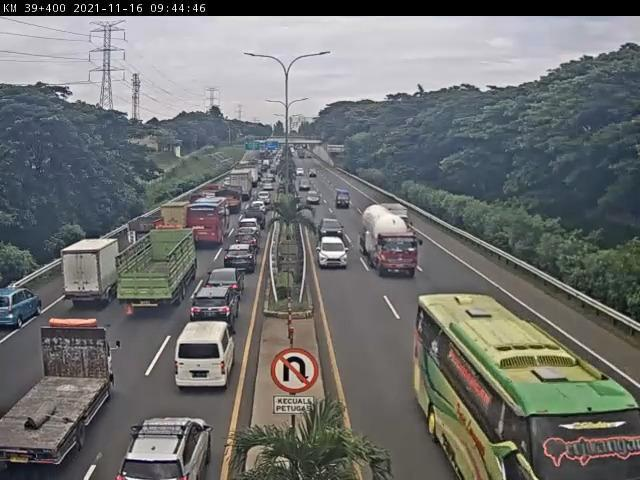bus: (412, 291, 640, 480), (186, 200, 230, 247)
car: (113, 416, 213, 480), (173, 326, 233, 389), (189, 288, 237, 336), (2, 289, 45, 331), (205, 272, 246, 303), (317, 237, 350, 270), (222, 249, 254, 278), (234, 232, 261, 252), (237, 217, 262, 238)
truck: (1, 318, 121, 471), (117, 230, 198, 312), (364, 206, 419, 277), (64, 240, 123, 306), (126, 214, 169, 246), (157, 200, 190, 235)
